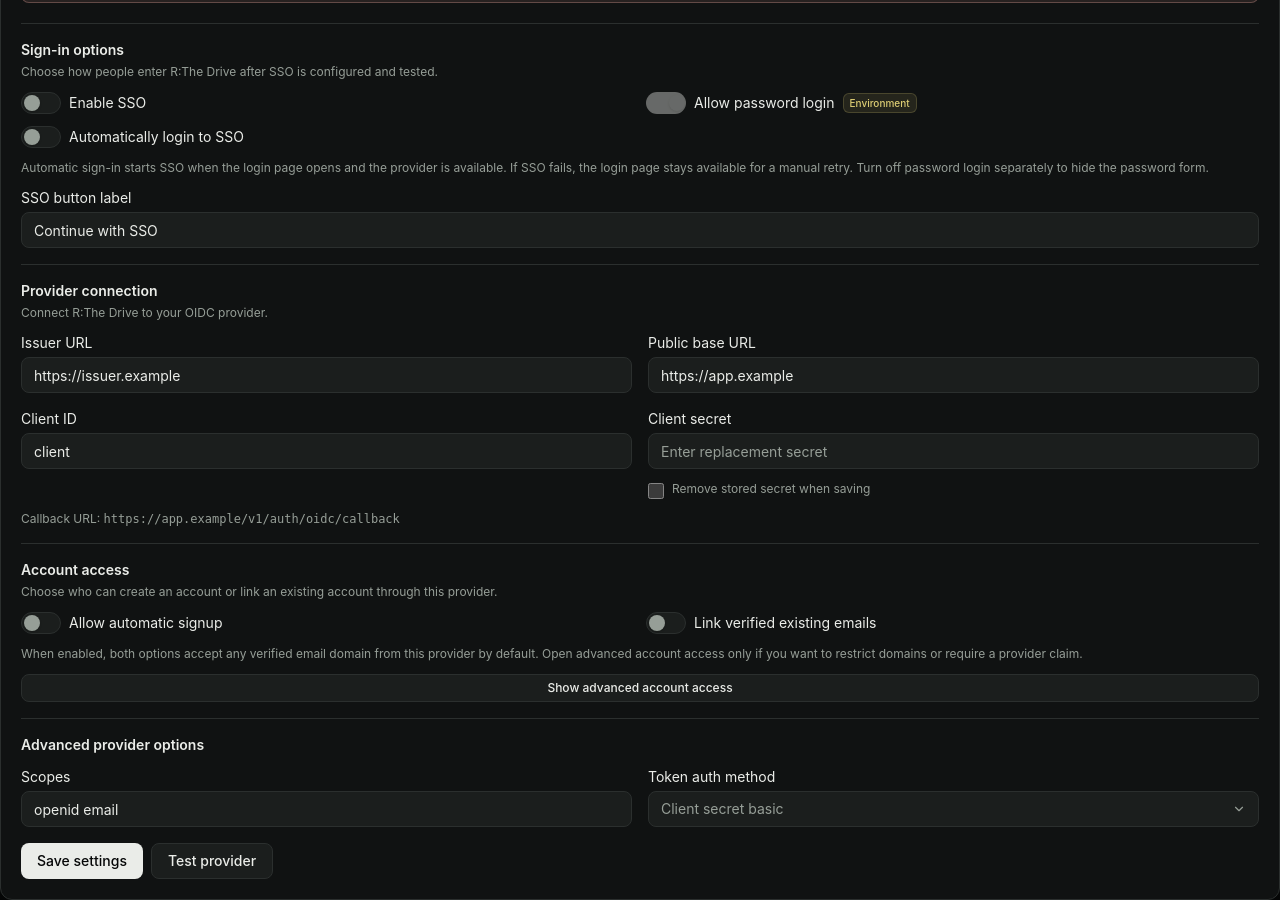
AuthenticationSection › shows the server validation reason when settings are rejected
(page scrolled)
Click the button "Save settings" at (82, 861), box 21,843 -> 143,879
(page scrolled)
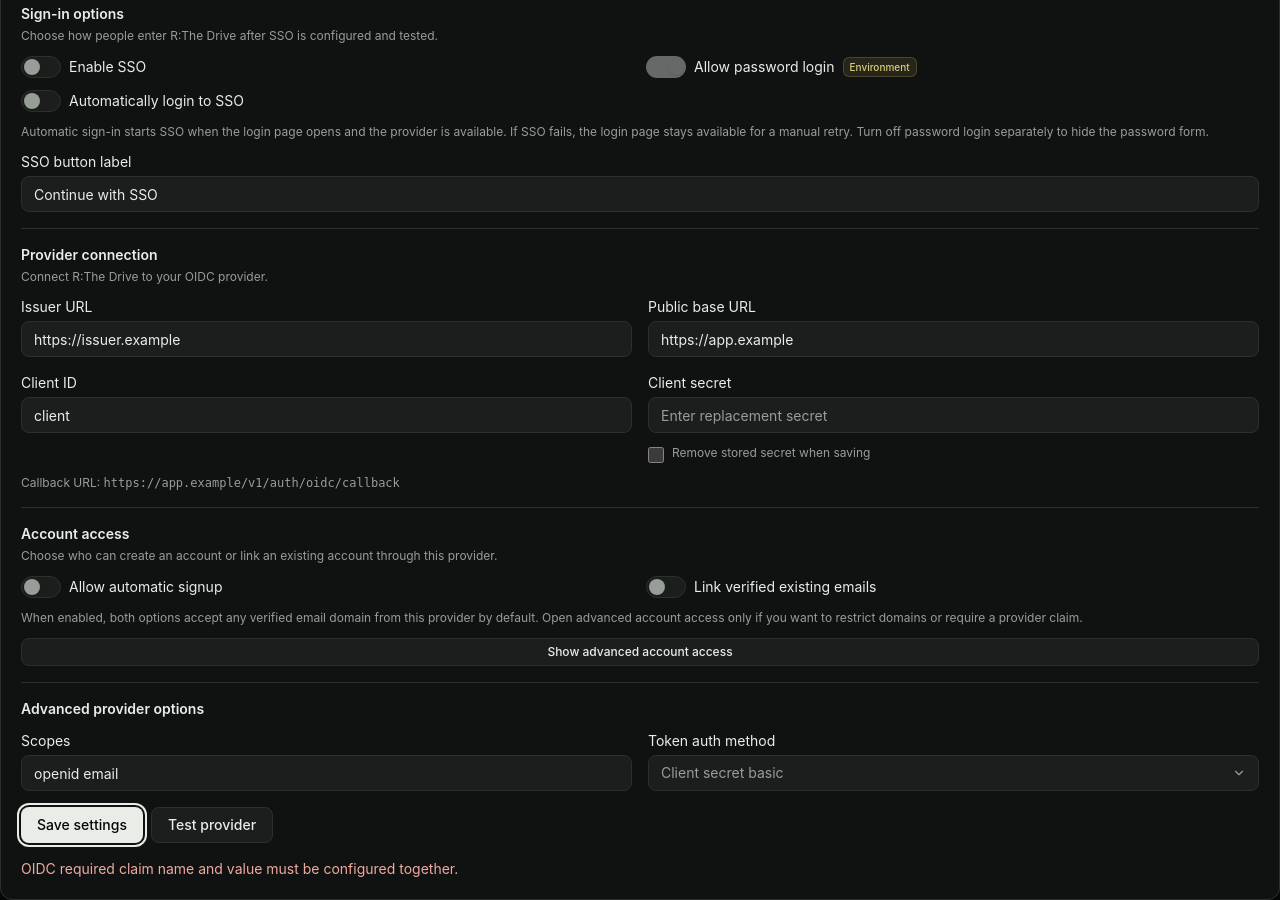
Now the message shows "claim name and value", box 21,860 -> 458,877
